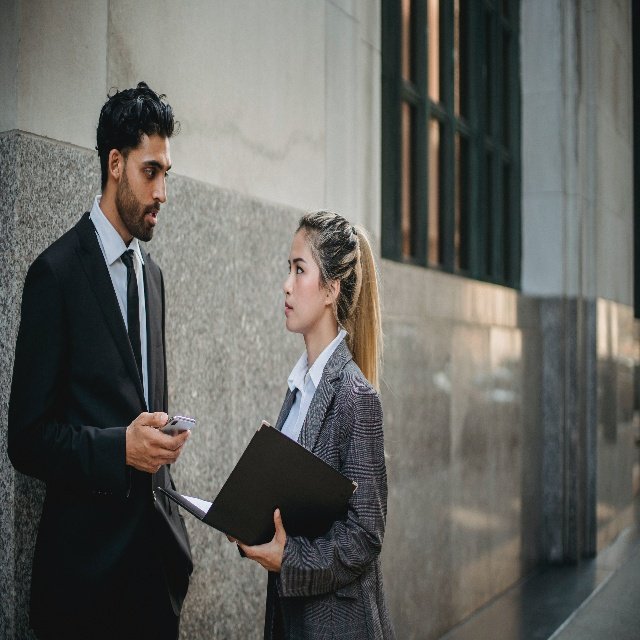Sin_guantes: (127, 408, 191, 470), (237, 511, 286, 574)
